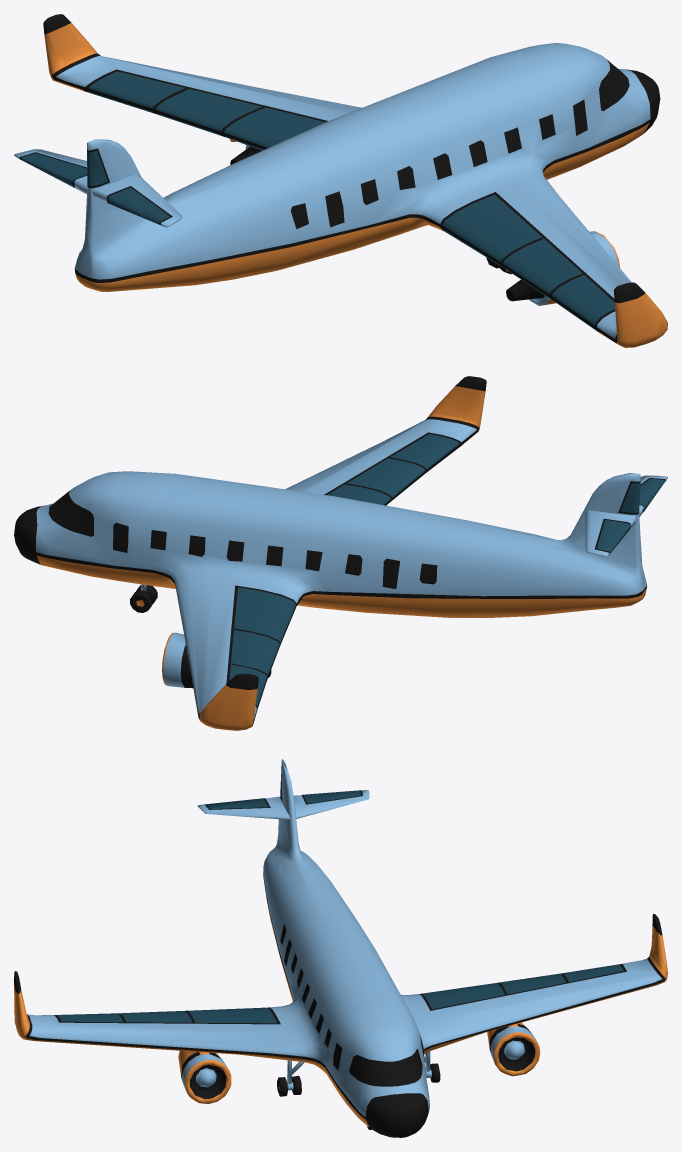
Rendered from avion1_bs.glb.
3 renders of one model, top to bottom at view 1: azimuth 30°, elevation 25°; view 2: azimuth 150°, elevation 25°; view 3: azimuth 270°, elevation 25°, orthographic. The views are drawn at different scales.
Visible parts, largest first — view 1: 18.1.Airplane_AIRPORT_0; view 2: 18.1.Airplane_AIRPORT_0; view 3: 18.1.Airplane_AIRPORT_0.
Part boxes in pixels (x1,y1,x2,y2): 18.1.Airplane_AIRPORT_0: (14, 14, 667, 347); 18.1.Airplane_AIRPORT_0: (14, 376, 667, 730); 18.1.Airplane_AIRPORT_0: (14, 759, 667, 1137).
Bounding box in the file's own units: 51.25 × 17.33 × 57.41.
Materials: 1 (1 with a texture image).
